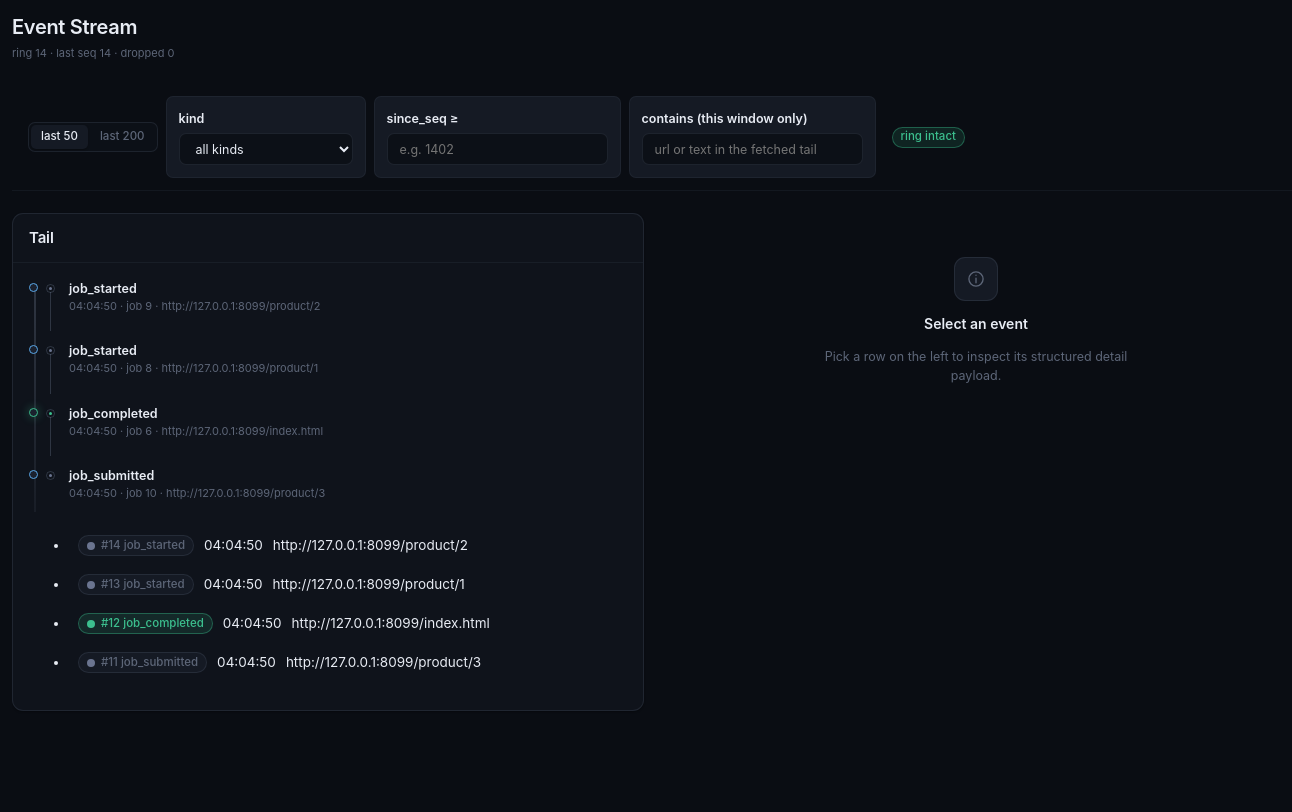
Event Stream › lists the fetched tail and opens details on click
Expected: the text "ring 14 · last seq 14 · dropped 0" is shown, [12,45,174,62]
Step 1. Click the text "#14 job_started" → [136, 546], box [78,535,194,556]
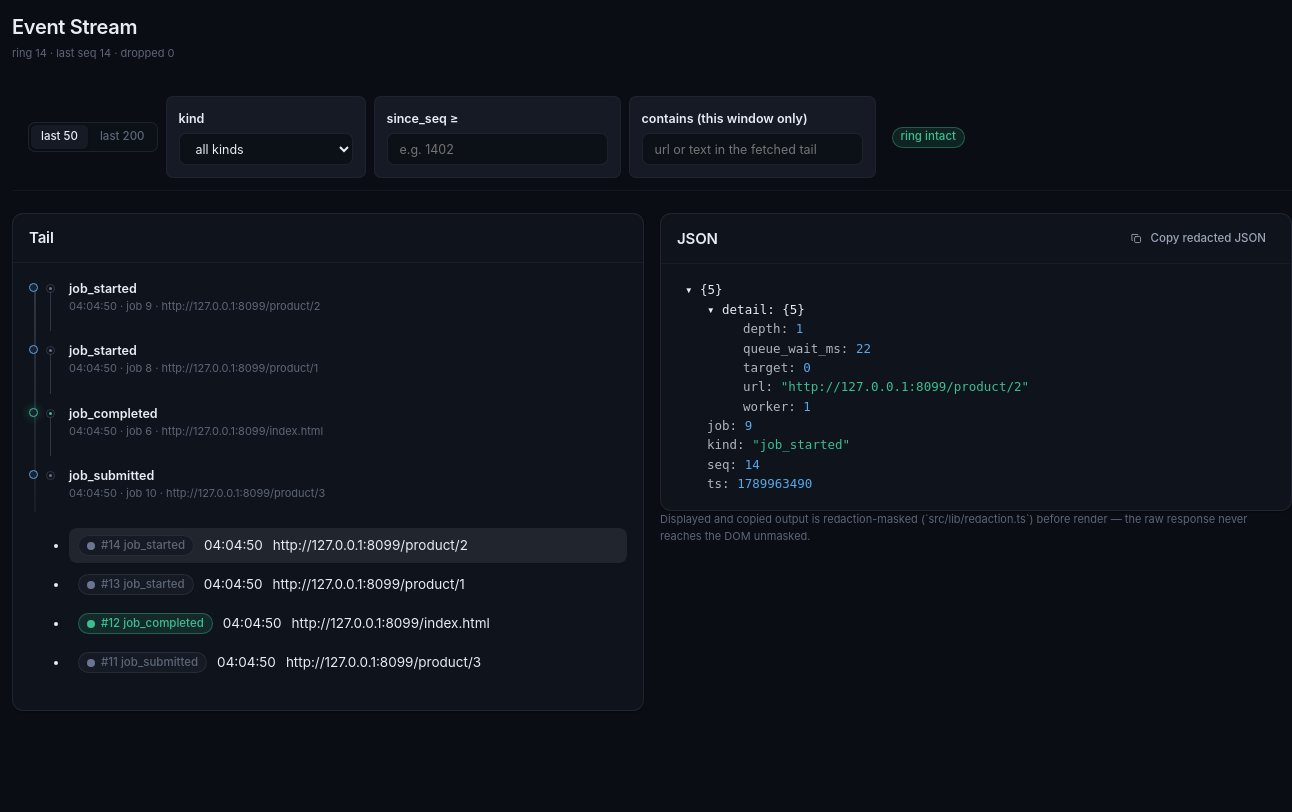
Now the button "Copy redacted JSON" is shown, box [1120,226,1275,251]
Now the text "redaction-masked" is shown, box [660,512,1247,542]
